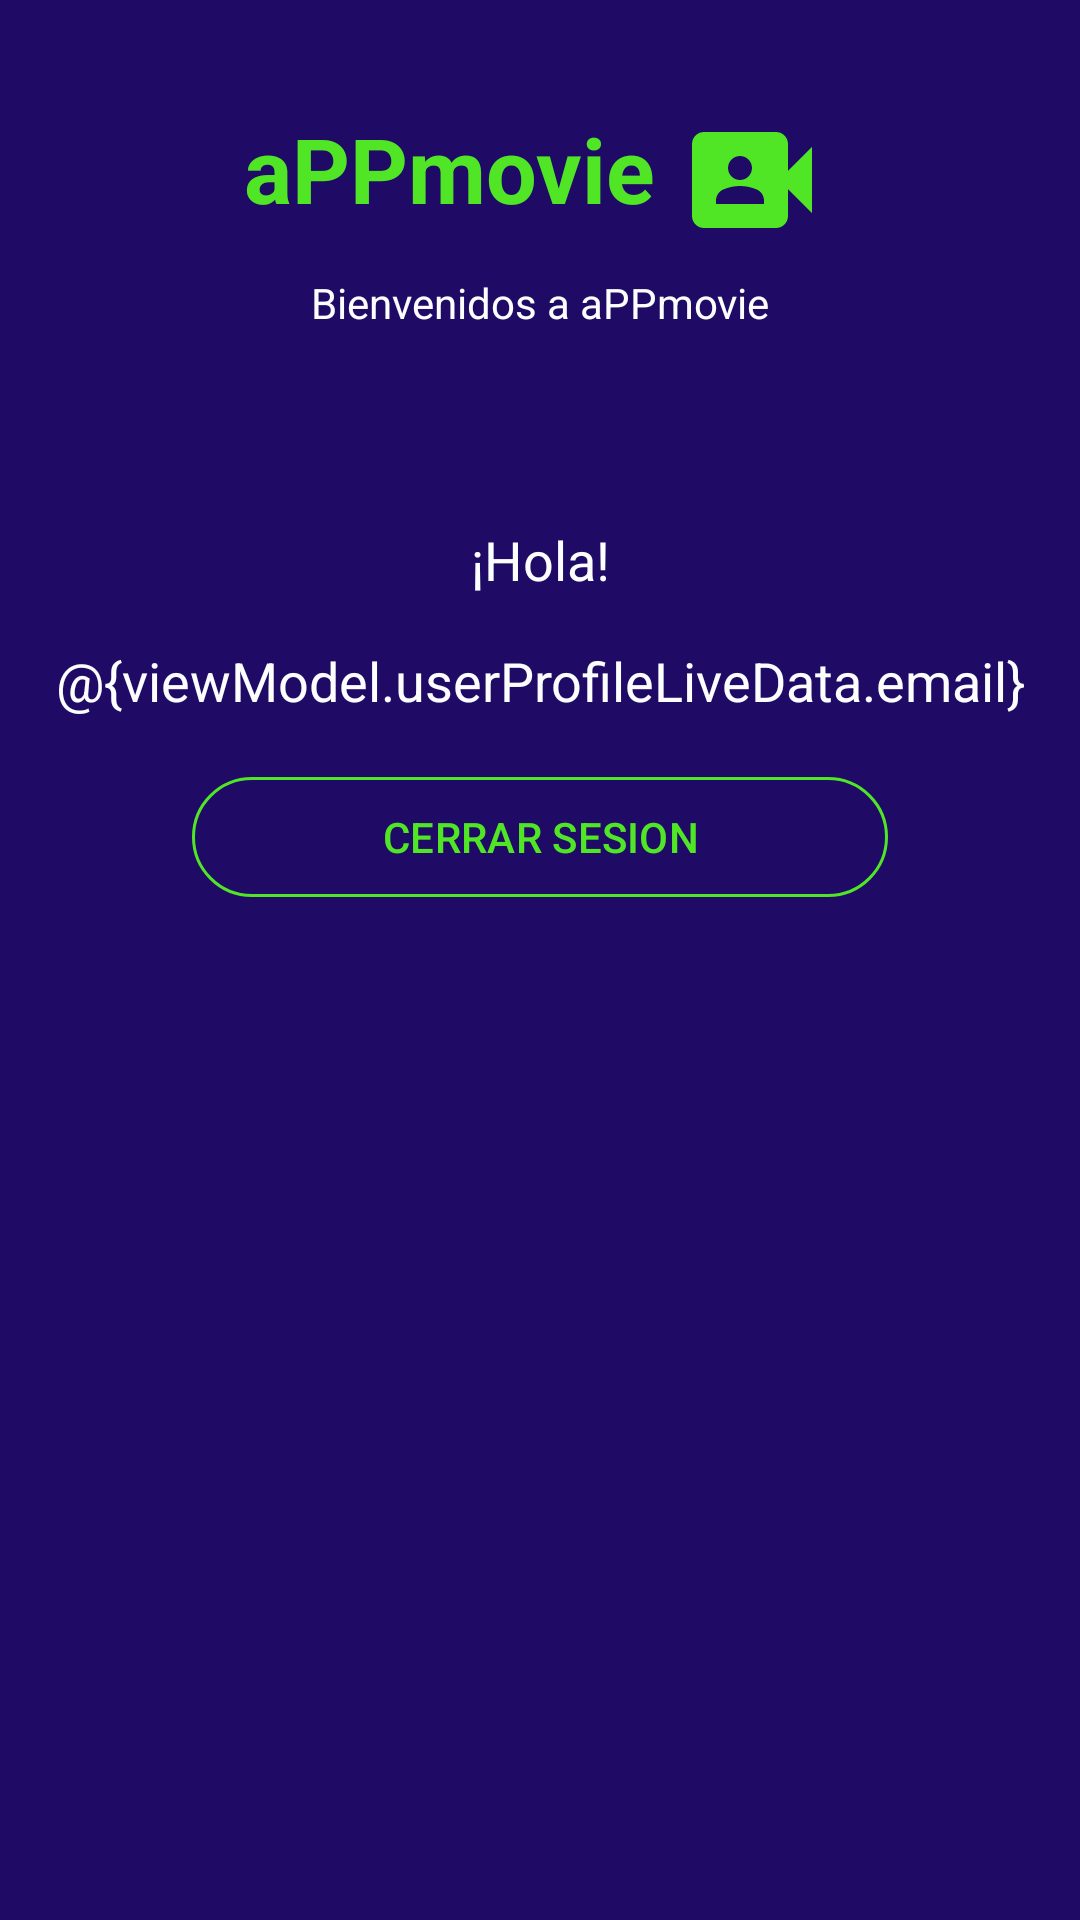

Named icons in this screenshot (1080 x 1920) and their centers, (x=x, y=y):
camera profile: (x=752, y=180)
